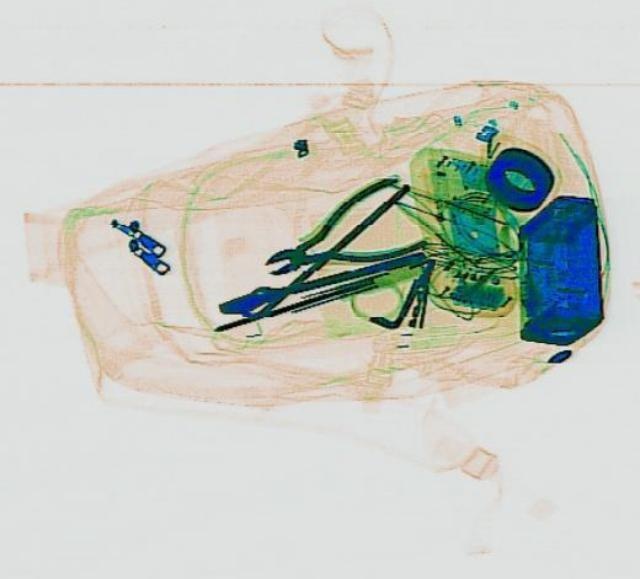Pliers: (243, 170, 435, 301)
